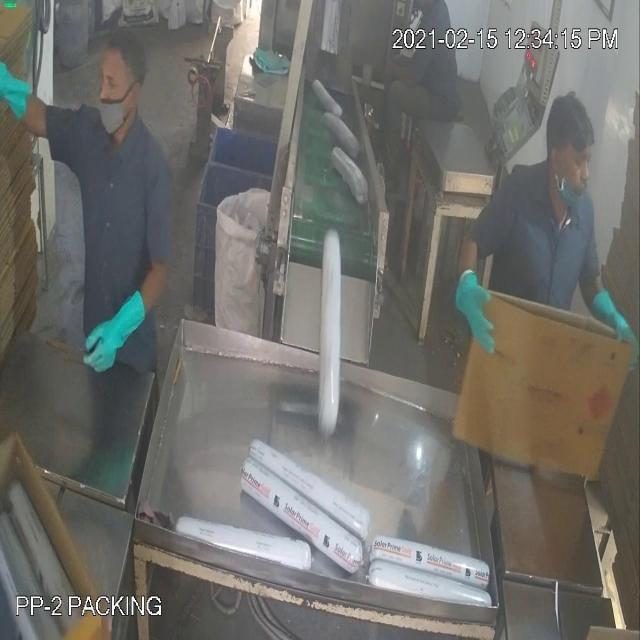Gloves: (14, 80, 611, 330)
